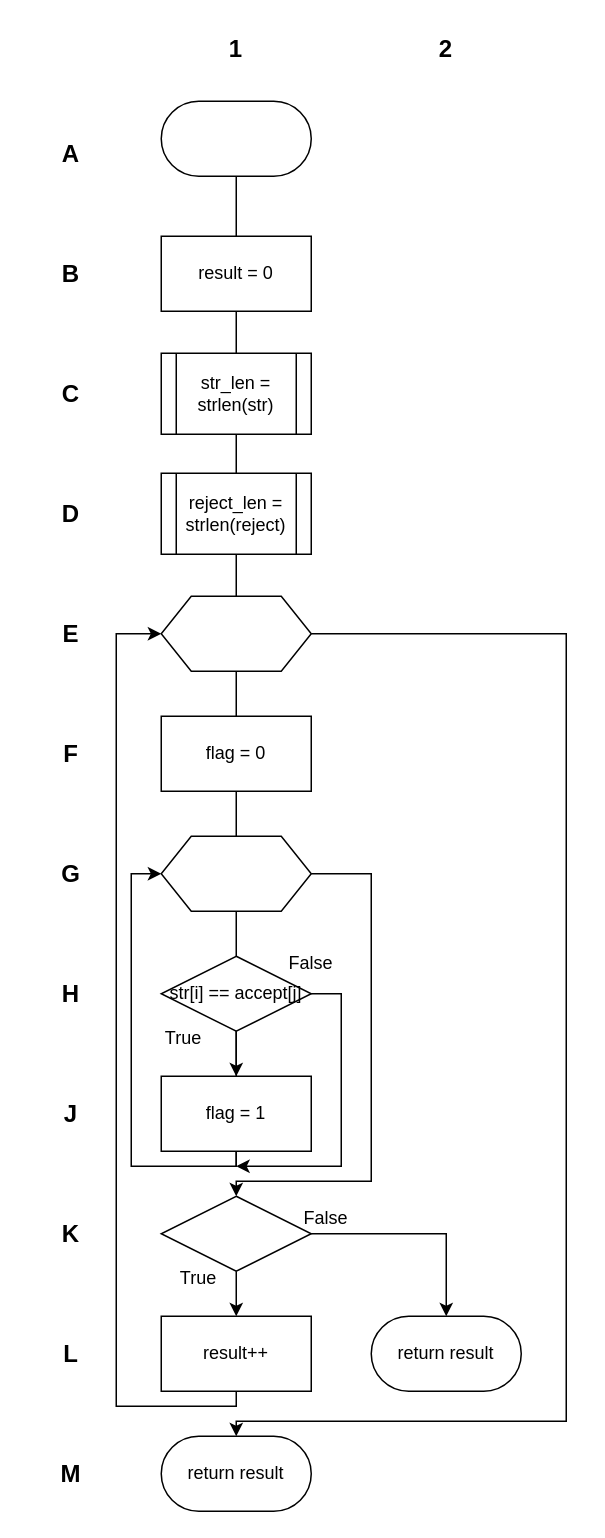
This 605x1538 diagram has some shape labels left out. Each missing label, with the centre of its shape:
"!flag" belongs at pixel 235 1233.
"i = 0; i < str_len; ++i" belongs at pixel 235 633.
"j = 0; (j < reject_len) && !flag; ++j" belongs at pixel 235 873.
"strcspn(str, reject)" belongs at pixel 235 138.
